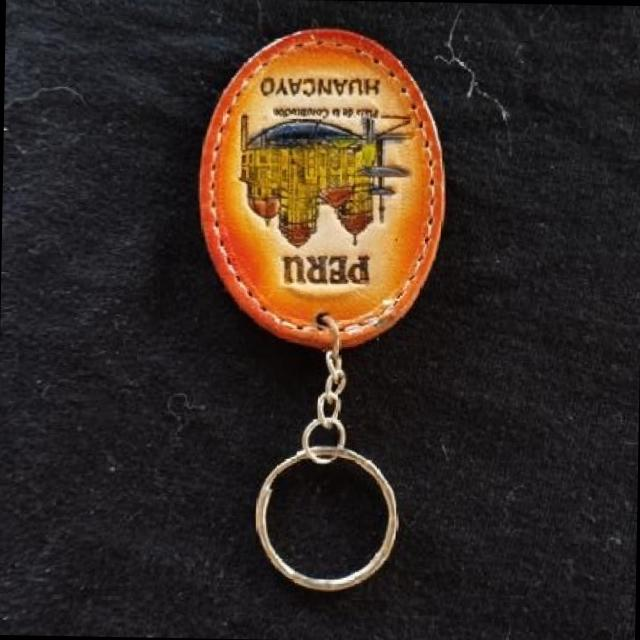Llavero: (194, 24, 449, 353)
